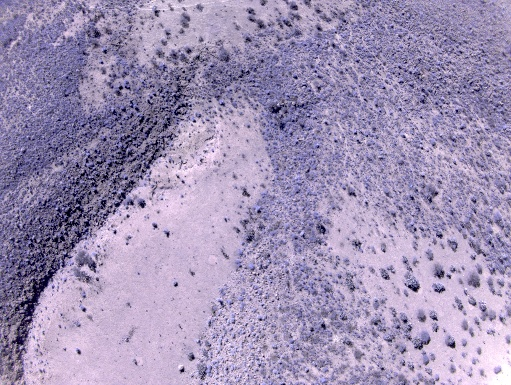agave: (99, 134, 110, 143), (230, 311, 236, 324), (194, 112, 205, 119), (313, 141, 321, 150), (237, 248, 245, 257), (125, 78, 131, 90), (236, 258, 243, 268), (430, 138, 437, 148), (292, 73, 300, 81), (318, 320, 327, 327), (254, 203, 261, 212), (86, 162, 95, 169), (329, 41, 338, 48), (226, 298, 233, 306), (237, 295, 245, 302), (96, 58, 104, 65), (91, 185, 98, 193), (248, 262, 254, 271), (308, 325, 315, 332), (331, 138, 340, 143), (102, 49, 111, 54), (131, 105, 140, 110), (353, 129, 359, 136), (219, 99, 226, 105), (293, 234, 299, 241), (116, 143, 124, 148), (402, 131, 406, 140), (120, 105, 126, 111), (86, 151, 92, 157), (116, 83, 123, 88), (398, 62, 403, 69), (354, 58, 361, 62), (391, 22, 395, 28)
